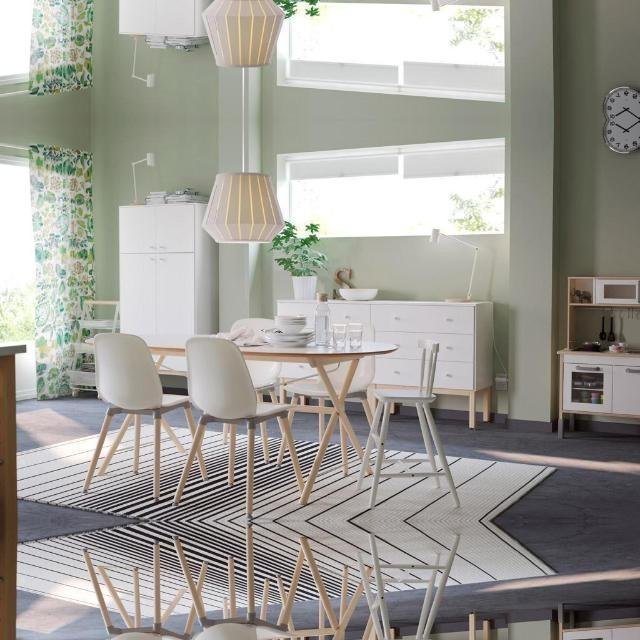obstacle: (84, 339, 460, 513), (84, 529, 459, 640), (552, 272, 640, 448), (1, 336, 34, 522), (552, 594, 639, 640), (0, 520, 33, 640)
